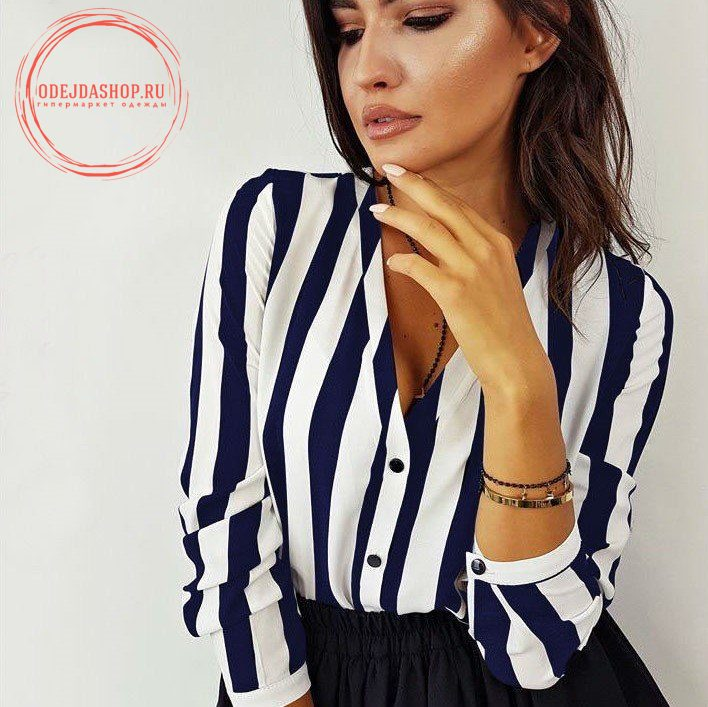striped: (174, 161, 679, 694)
